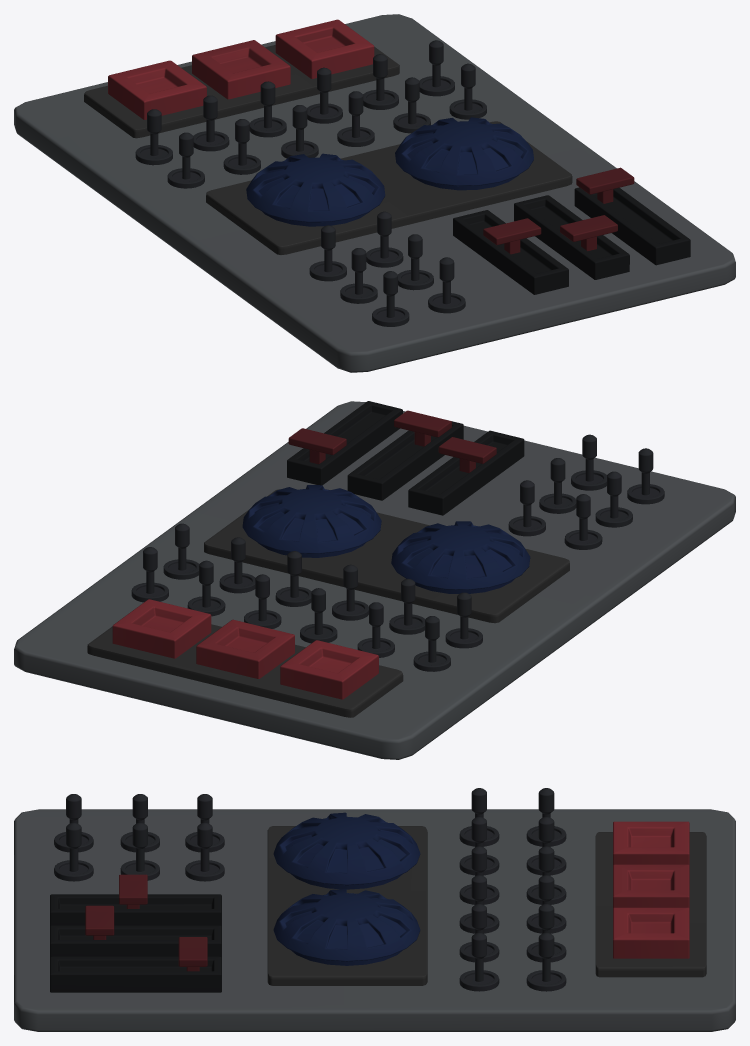
Rendered from Modulo_Riempimento_Singolo2.fbx.
3 renders of one model, top to bottom at view 1: azimuth 30°, elevation 25°; view 2: azimuth 150°, elevation 25°; view 3: azimuth 270°, elevation 25°, orthographic. The views are drawn at different scales.
Parts seen in each view (by area): view 1: polySurface34; view 2: polySurface34; view 3: polySurface34.
Part boxes in pixels (<box>): polySurface34: <box>14,14,735,372</box>; polySurface34: <box>14,401,735,759</box>; polySurface34: <box>14,788,735,1031</box>.
Size of the model in its own units: 20 by 3.28 by 30.
